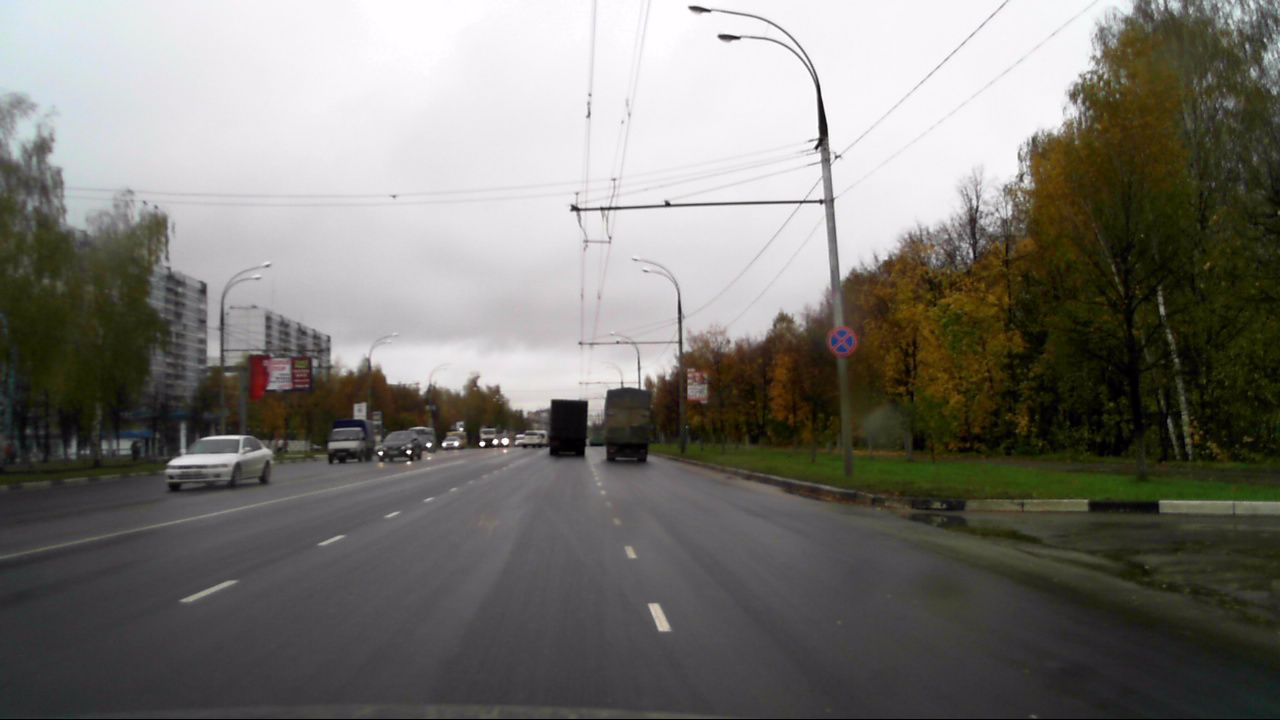No Parking: (826, 324, 858, 357)
